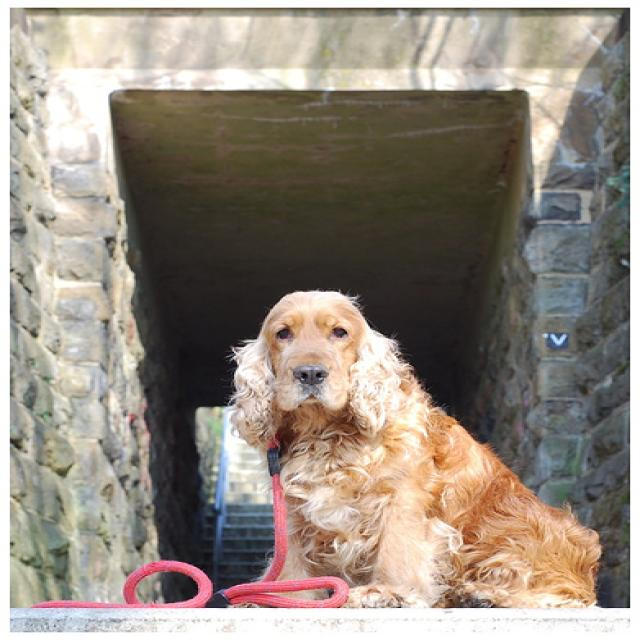dog-english_cocker_spaniel: (224, 280, 612, 621)
